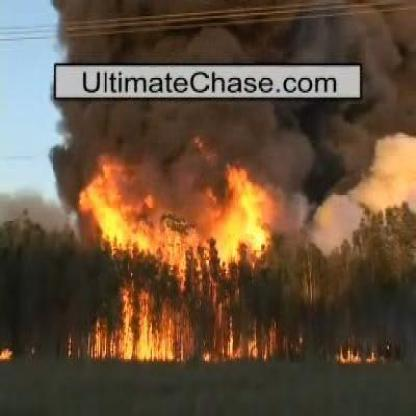-: (51, 103, 380, 186), (60, 0, 332, 62)
foggia-v2-map80-epoch100 - v1 4323: (115, 314, 179, 362)
